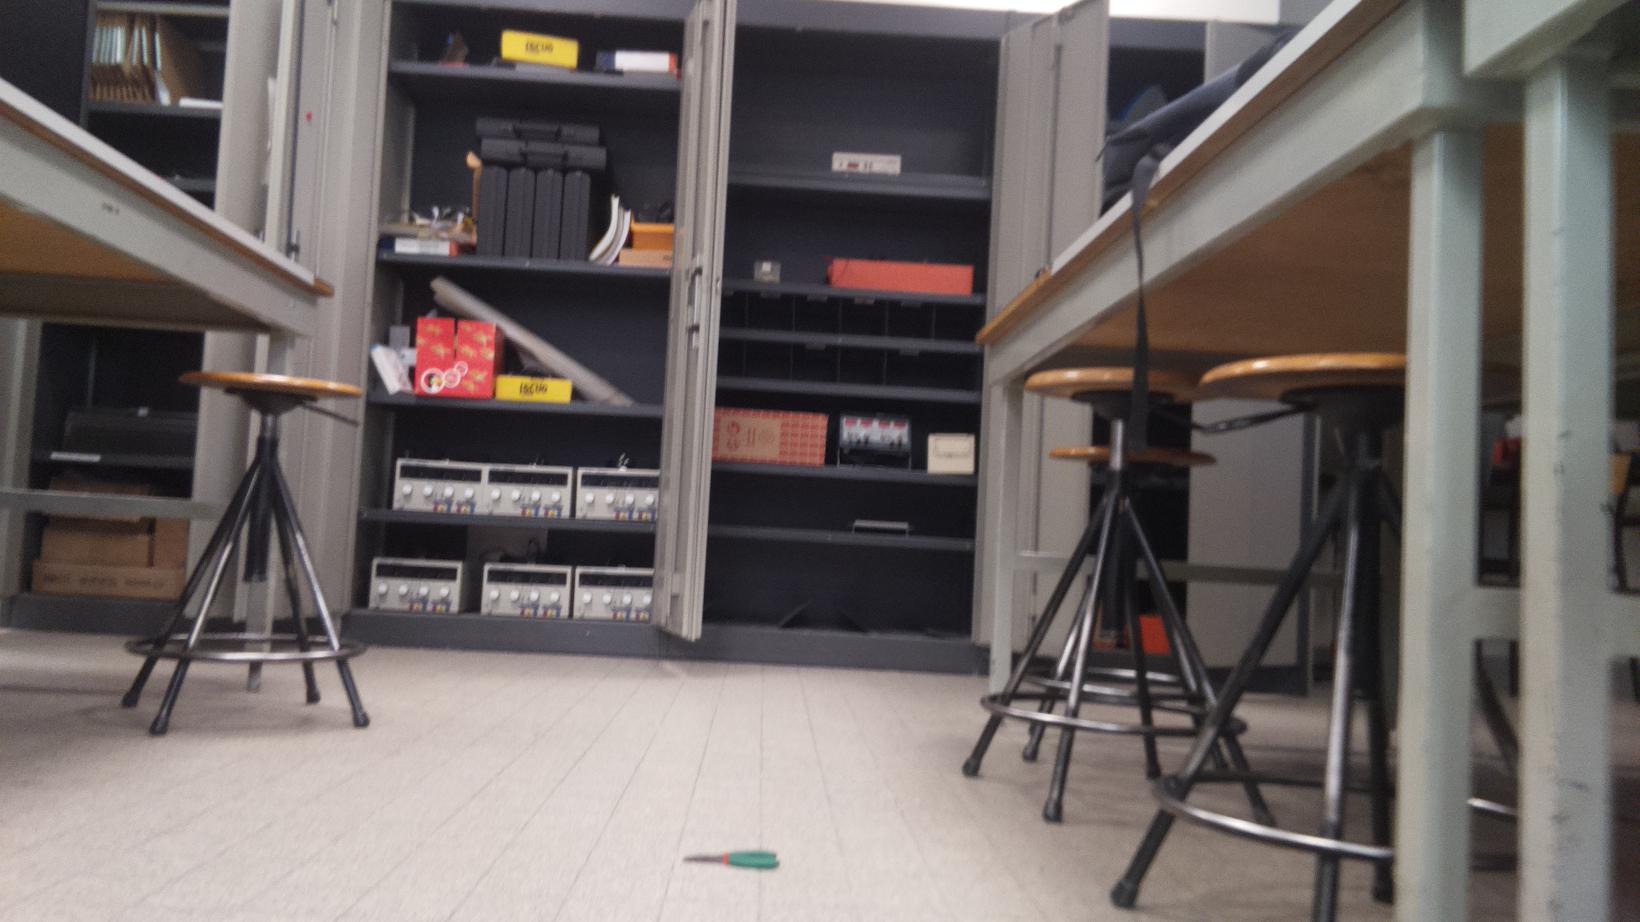small: (680, 845, 784, 880)
